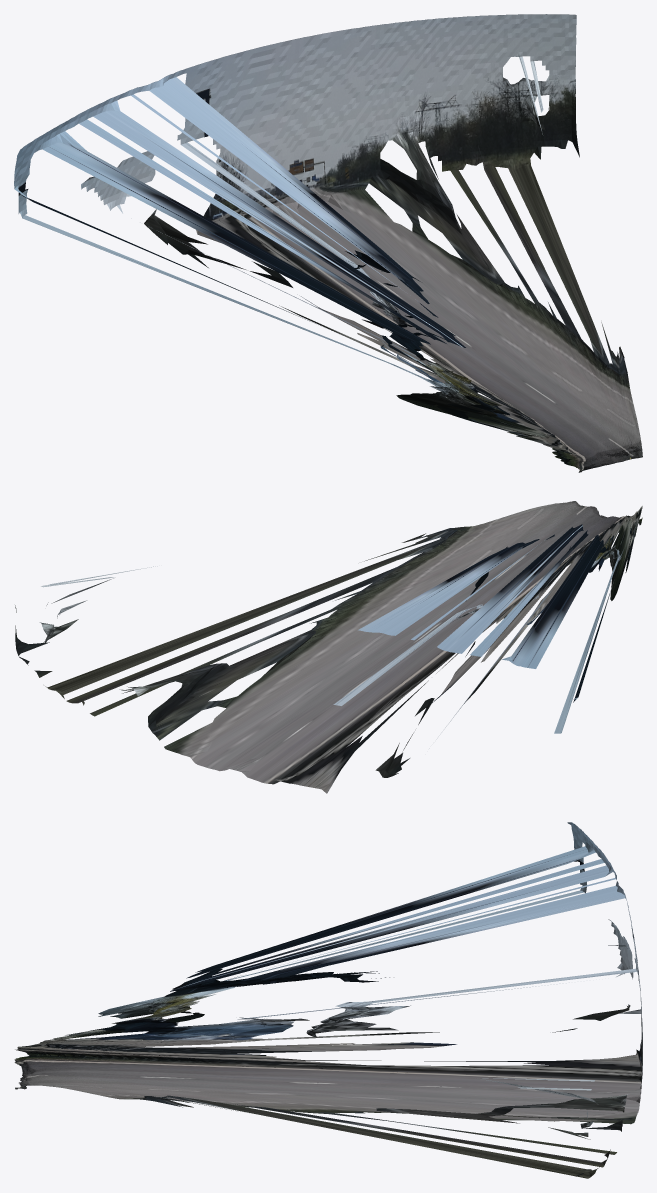
3 views of the same model, one above another, from view 1: azimuth 30°, elevation 25°; view 2: azimuth 150°, elevation 25°; view 3: azimuth 270°, elevation 25° (orthographic). The views are drawn at different scales.
Parts seen in each view (by area): view 1: defaultobject; view 2: defaultobject; view 3: defaultobject.
Part boxes in pixels (left/top/right/bottom): defaultobject: left=14, top=14, right=642, bottom=472; defaultobject: left=15, top=501, right=642, bottom=793; defaultobject: left=14, top=822, right=642, bottom=1178.
Size of the model in its own units: 40.91 by 12.09 by 44.71.
Materials: 1 (1 with a texture image).
